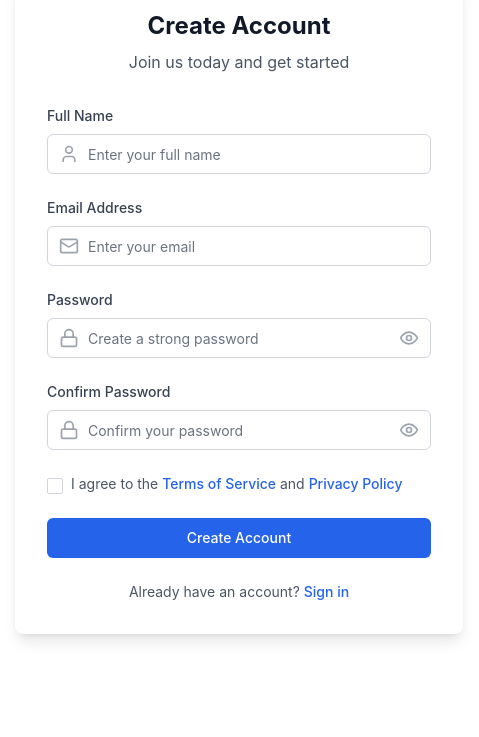
SignupForm › requires terms acceptance
Click the button "Create Account" at (239, 538), box left=47, top=518, right=431, bottom=558
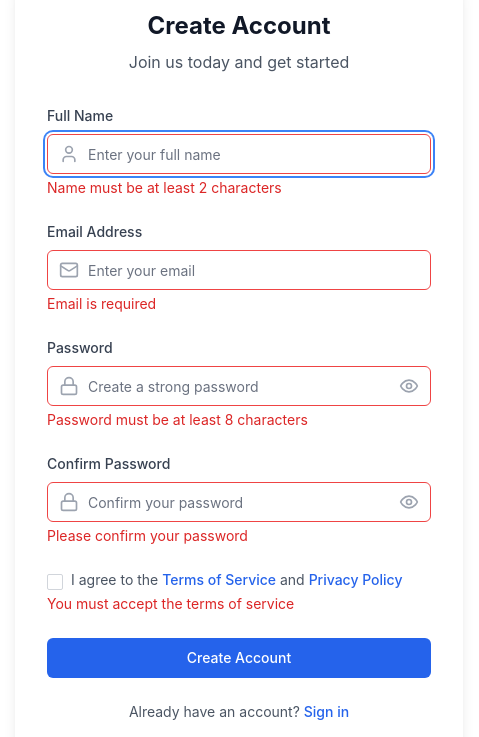
Now the text "You must accept the terms of service" is shown, box left=47, top=595, right=294, bottom=612
